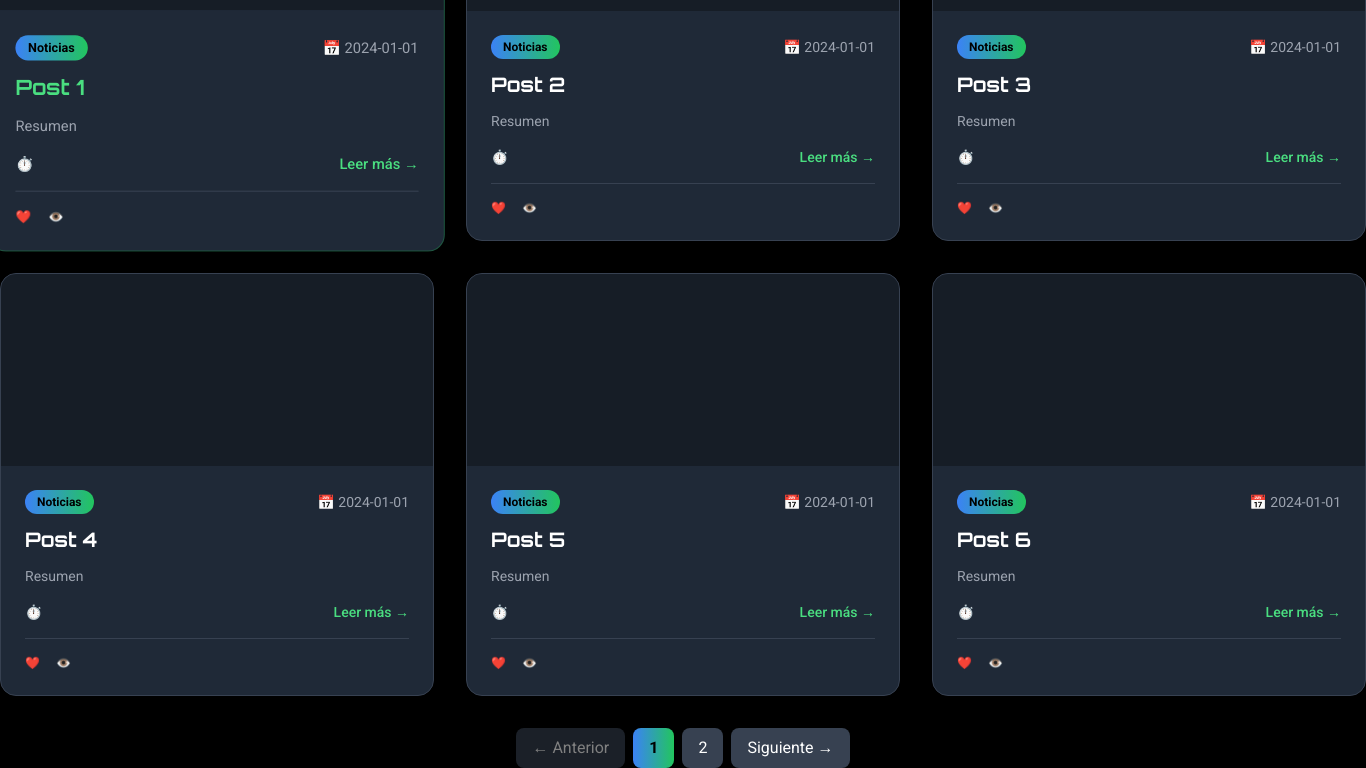
Test case: BlogGrid › TEST_BLOGGRID_5: Paginación funciona correctamente
This screenshot has width=1366, height=768.
(page scrolled)
Expected: the number of headings is 6, [15,74,84,100]; [491,72,565,97]; [957,72,1031,97]; [25,527,97,552]; [491,527,565,552]; [957,527,1031,552]
Cambiar a página 2
Click the button "2".
click(703, 748)  # box [682,728,724,767]
(page scrolled)
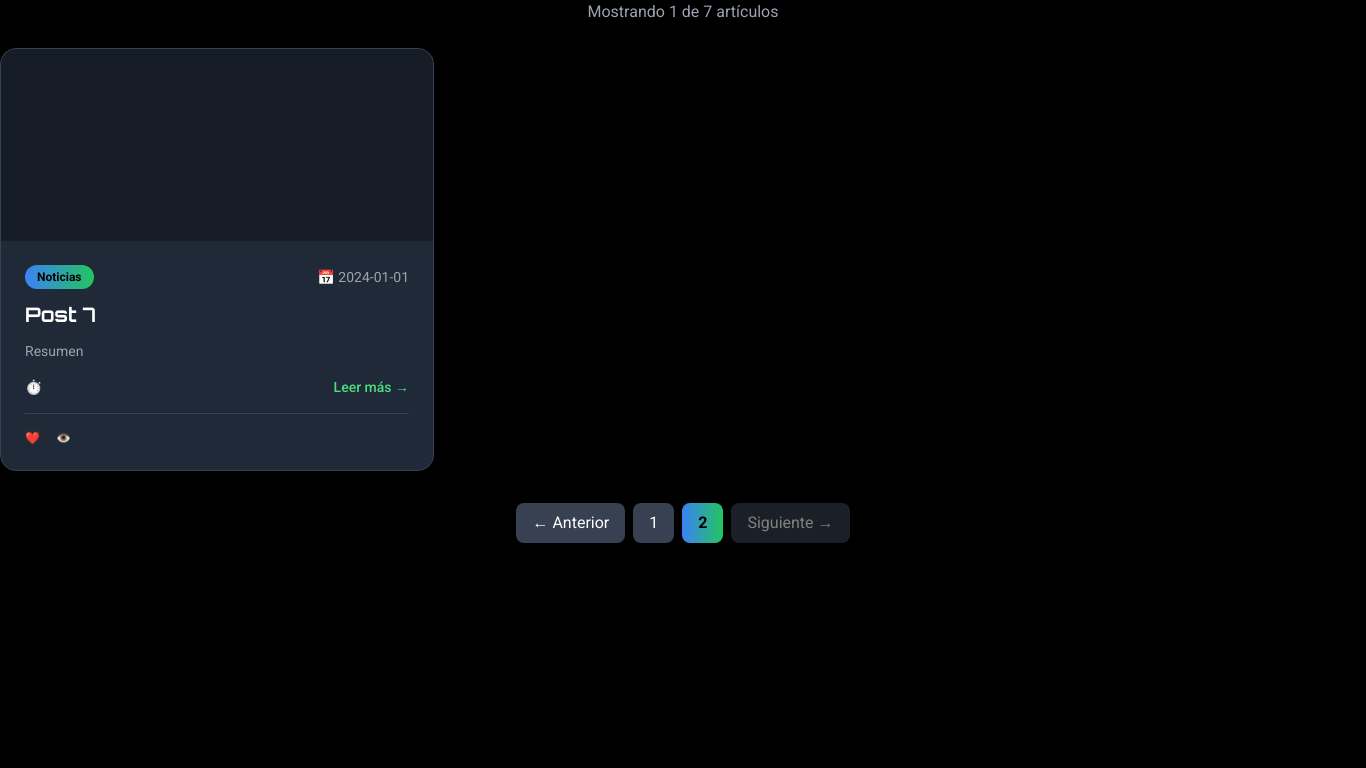
Expected: the number of headings is 1, [25,302,96,327]
